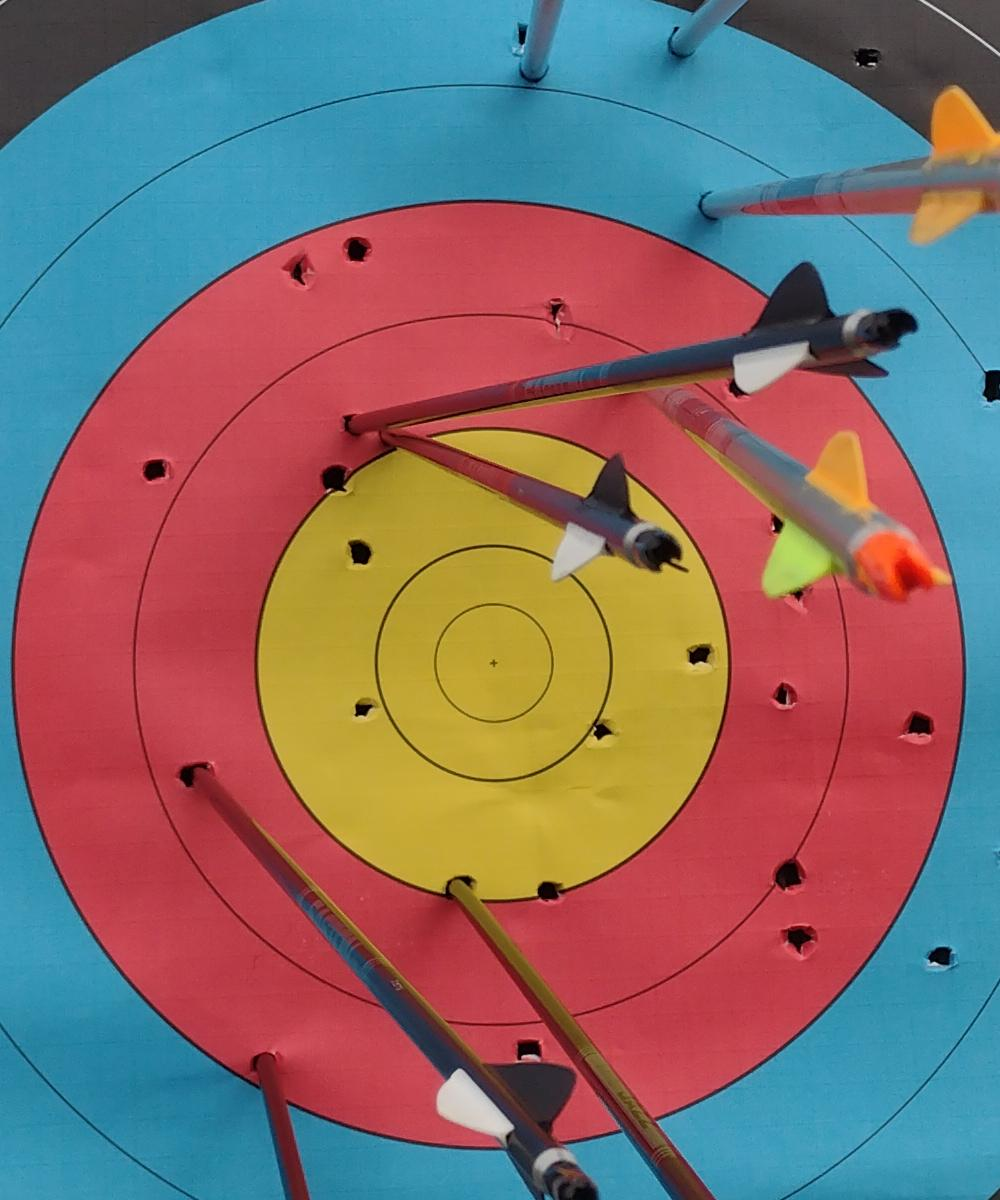10-Ring: (334, 505, 652, 824)
7-Ring: (0, 192, 973, 1163)
8-Ring: (135, 316, 845, 1025)
9-Ring: (257, 432, 727, 899)
Arrow: (132, 749, 652, 1200), (333, 250, 923, 441), (433, 876, 715, 1200), (362, 423, 693, 598)
